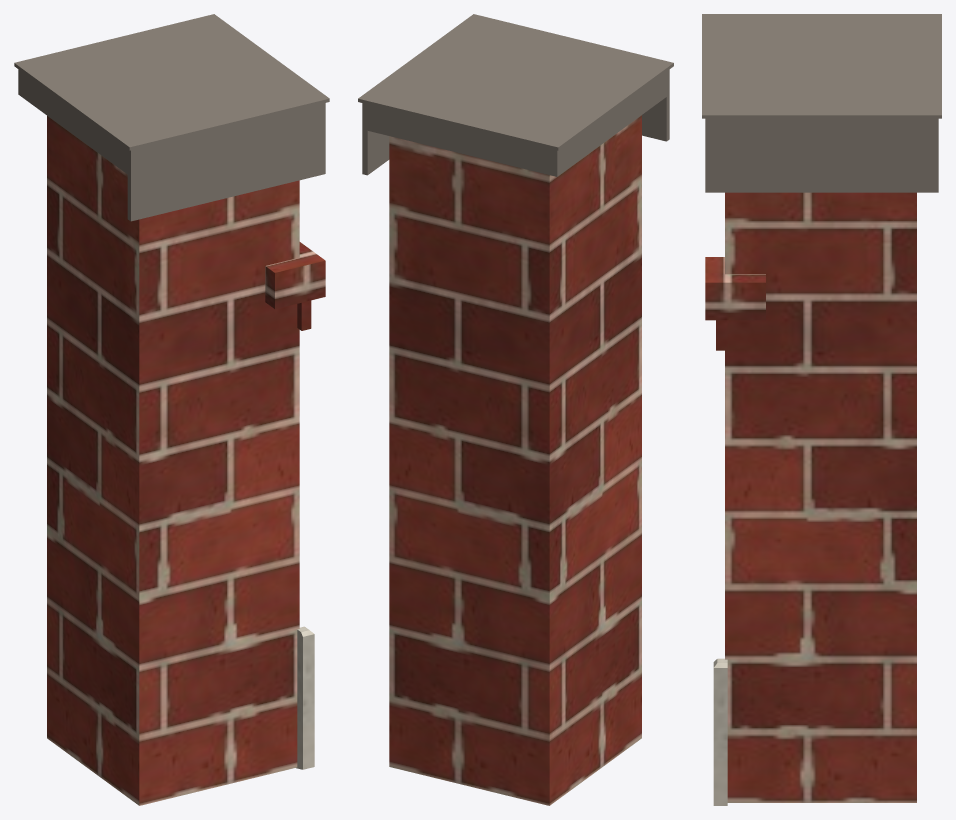
File: corner_p.glb
3 renders of one model, left to right at view 1: azimuth 30°, elevation 25°; view 2: azimuth 150°, elevation 25°; view 3: azimuth 270°, elevation 25°, orthographic. The views are drawn at different scales.
Parts seen in each view (by area): view 1: corner_p_brick, corner_p_alu, corner_p_precast; view 2: corner_p_brick, corner_p_alu; view 3: corner_p_brick, corner_p_alu, corner_p_precast.
Boxes of the visible parts, bbox=[...] form: corner_p_brick: bbox=[47, 116, 325, 805]; corner_p_alu: bbox=[14, 14, 329, 221]; corner_p_precast: bbox=[296, 626, 314, 769]; corner_p_brick: bbox=[389, 115, 641, 805]; corner_p_alu: bbox=[358, 14, 673, 176]; corner_p_brick: bbox=[705, 192, 916, 802]; corner_p_alu: bbox=[702, 14, 941, 192]; corner_p_precast: bbox=[713, 658, 727, 805].
Bounding box in the file's own units: 0.375 × 1.21 × 0.375.
3 materials, 2 textured.
